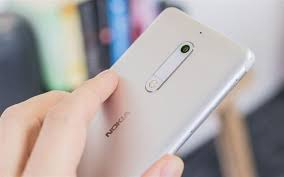nokia: (47, 7, 260, 174)
